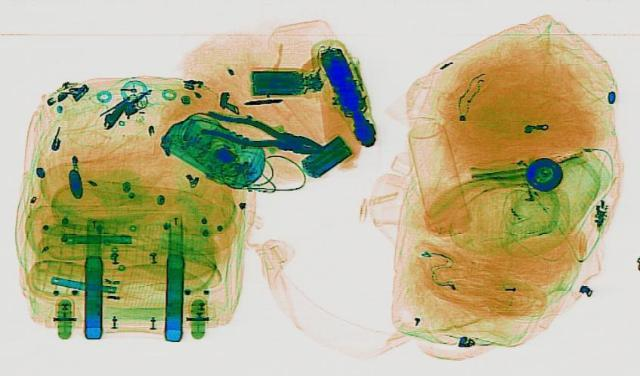Pliers: (188, 108, 328, 159)
